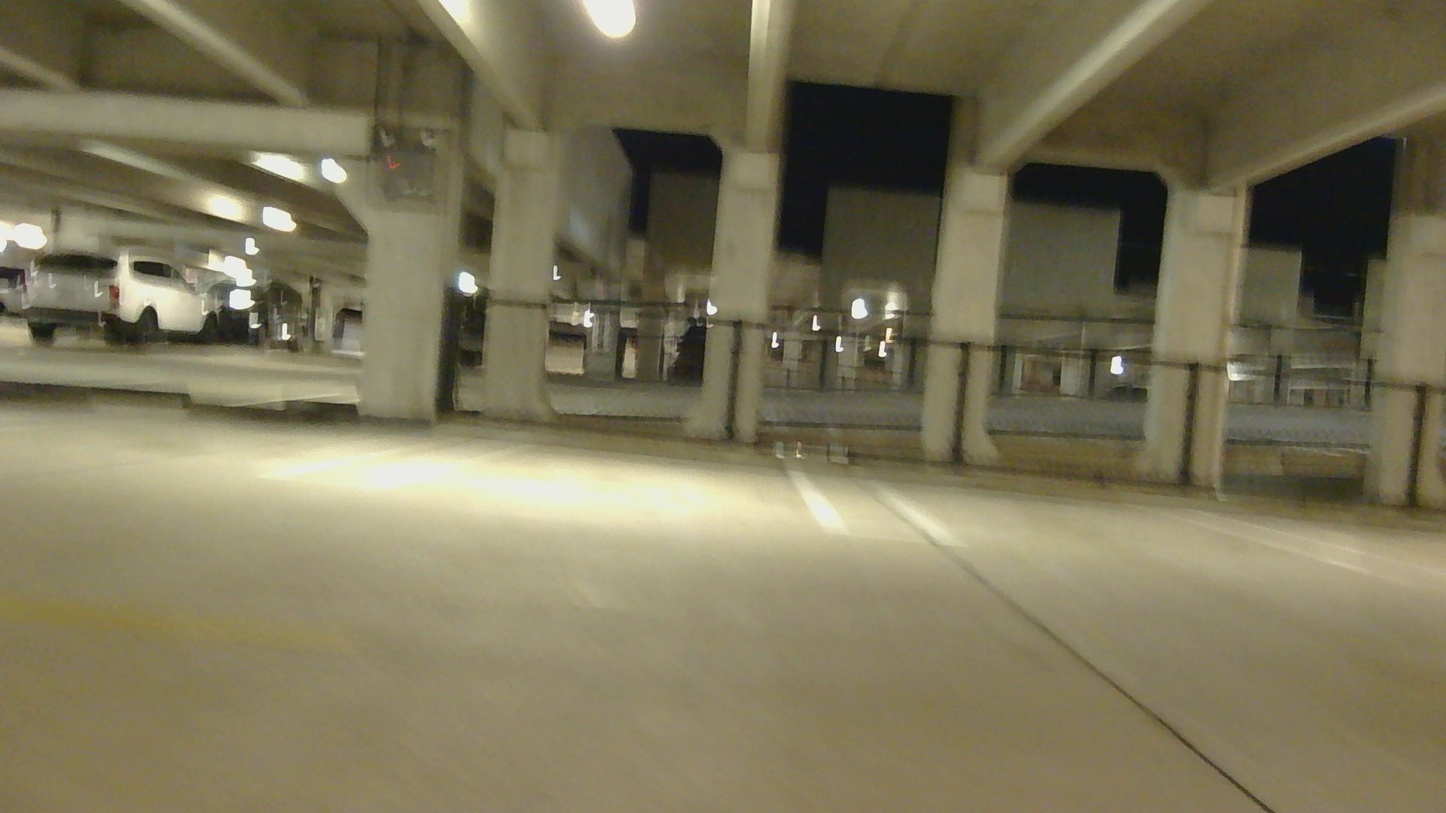empty_spot: (820, 408, 1434, 578), (335, 359, 899, 537), (0, 389, 431, 488), (1188, 438, 1445, 584)
